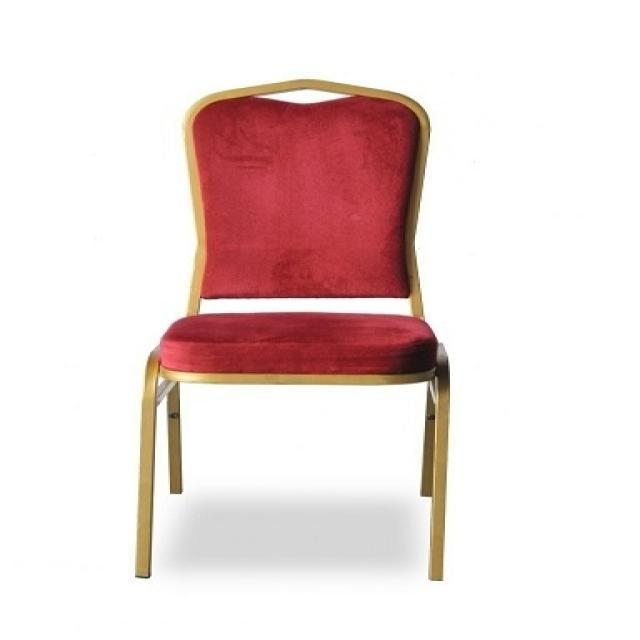chair: (133, 73, 452, 585)
